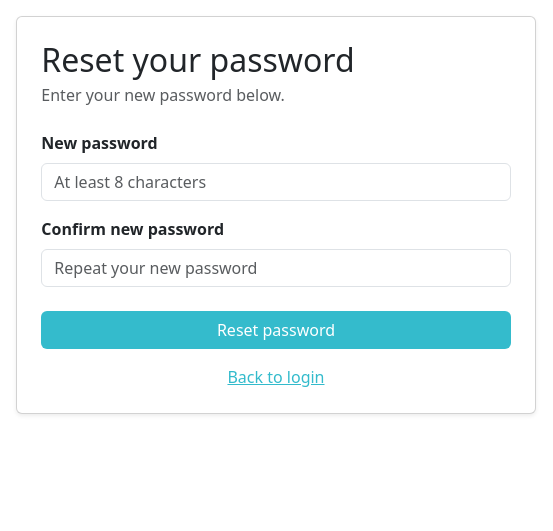
Test: ResetPasswordPage › shows an invalid or expired link error when the response is unsuccessful
In the password field labelled "New password": coordinates (276, 182) [41,163,511,201], type "password123"
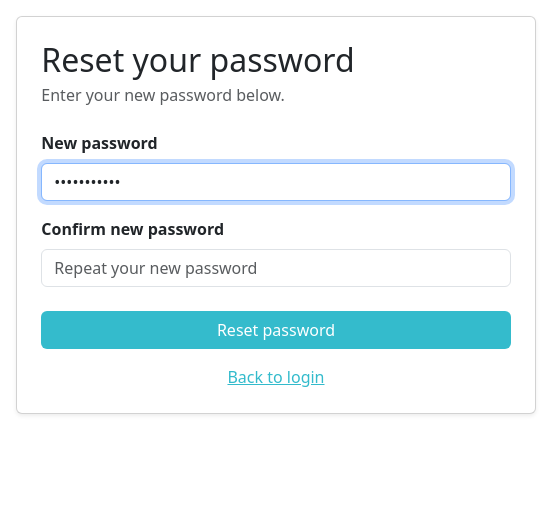
In the password field labelled "Confirm new password": coordinates (276, 268) [41,249,511,287], type "password123"
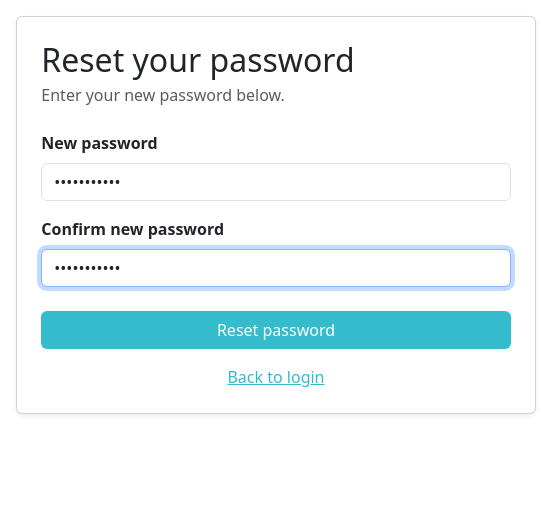
Click the button "Reset password": coordinates (276, 330) [41,311,511,349]
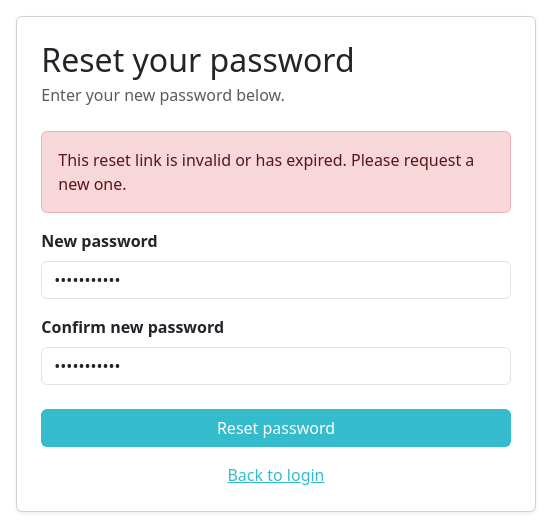
Expected: the text "This reset link is invalid or has expired" is shown, [58,149,474,195]
